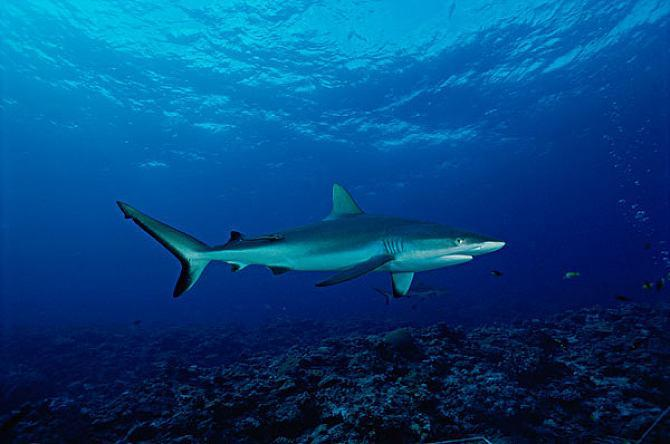fish: (112, 163, 507, 300)
